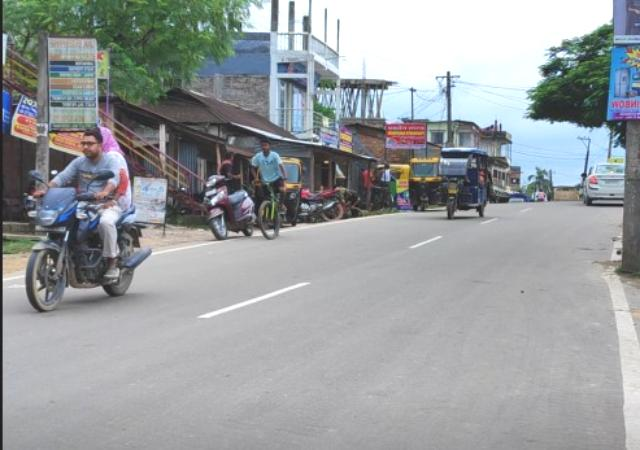licensePlate: (29, 223, 69, 232)
motorcycle: (24, 125, 153, 313)
withoutHelmet: (76, 128, 105, 156)
